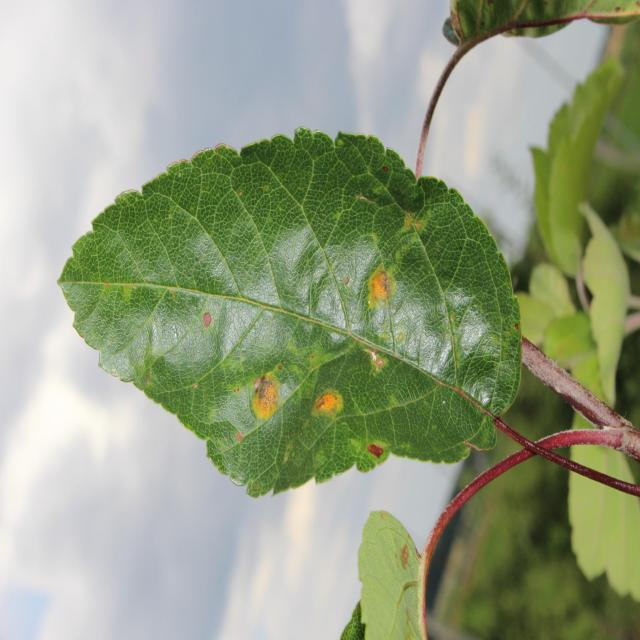Black Rot: (369, 425, 386, 474), (199, 307, 215, 330)
Rust: (243, 366, 283, 428), (356, 261, 398, 315), (307, 387, 347, 428), (398, 205, 430, 243), (231, 422, 248, 449)
